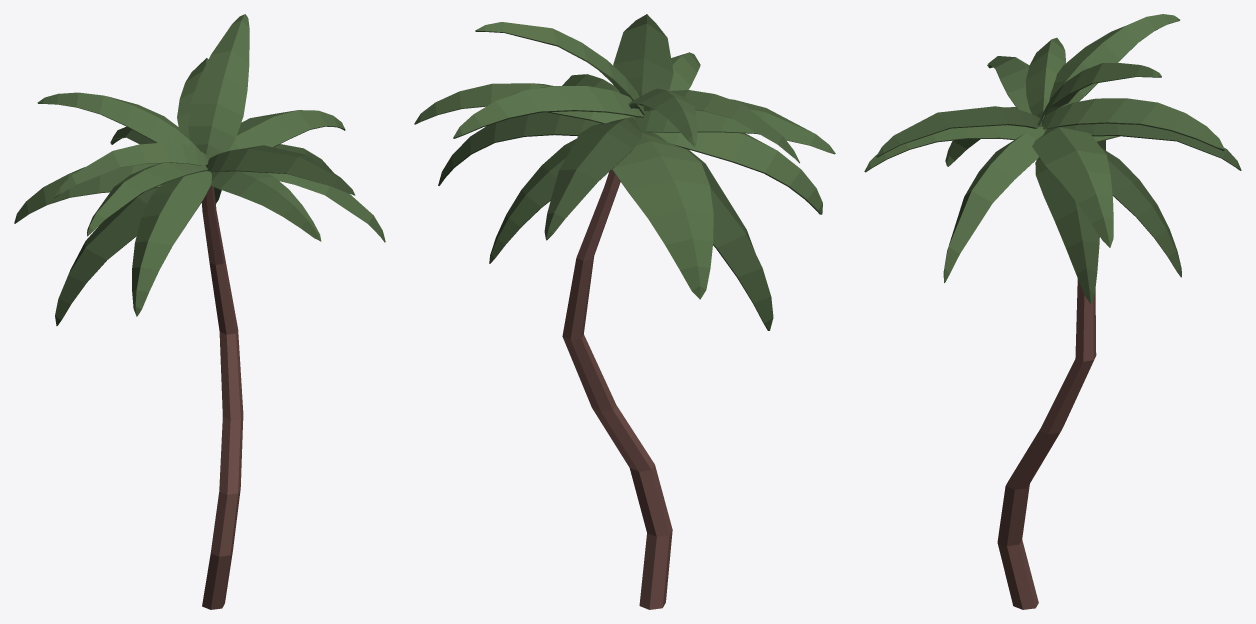
File: palmtree_1.015_lev1.glb
3 renders of one model, left to right at view 1: azimuth 30°, elevation 25°; view 2: azimuth 150°, elevation 25°; view 3: azimuth 270°, elevation 25°, orthographic. The views are drawn at different scales.
Parts seen in each view (by area): view 1: palmtree_1.015_lev1; view 2: palmtree_1.015_lev1; view 3: palmtree_1.015_lev1.
Part boxes in pixels (<box>): palmtree_1.015_lev1: <box>14,14,385,609</box>; palmtree_1.015_lev1: <box>414,14,835,609</box>; palmtree_1.015_lev1: <box>864,14,1241,609</box>.
Bounding box in the file's own units: 2.79 × 4.47 × 2.63.
